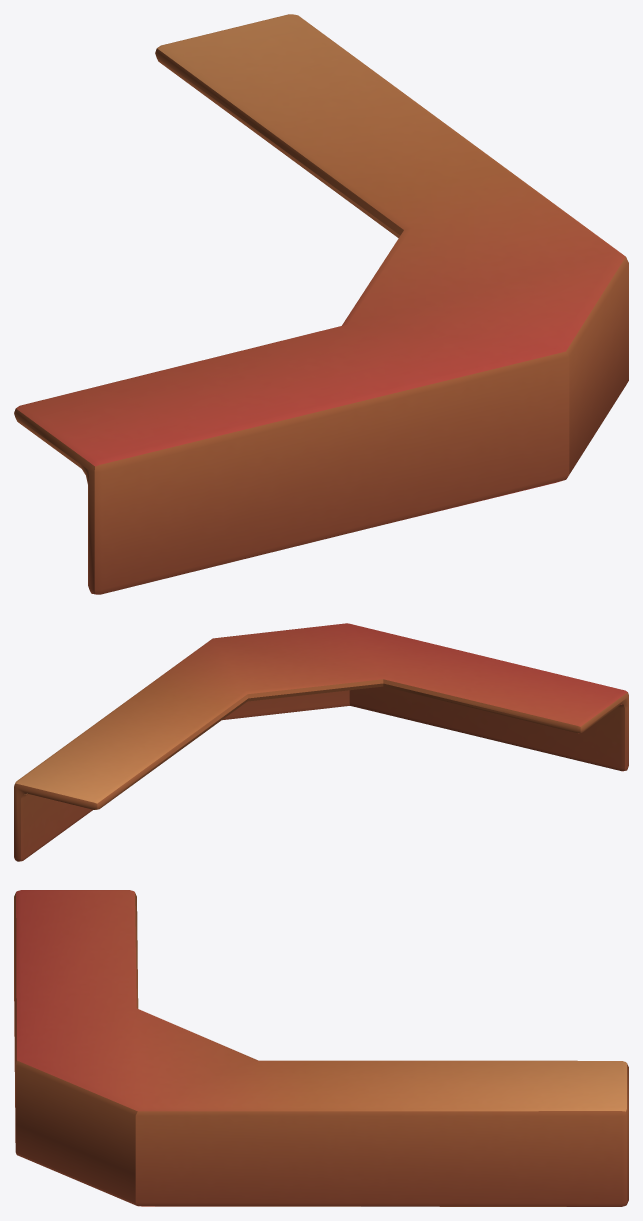
The model's file is Props_Table_04.fbx.
The picture shows the model from 3 angles, top to bottom: view 1: azimuth 30°, elevation 25°; view 2: azimuth 150°, elevation 25°; view 3: azimuth 270°, elevation 25°; orthographic projection. The views are drawn at different scales.
Visible parts, largest first — view 1: Props_Table_04; view 2: Props_Table_04; view 3: Props_Table_04.
Part boxes in pixels (x1,y1,x2,y2): Props_Table_04: [14, 14, 628, 594]; Props_Table_04: [14, 623, 628, 861]; Props_Table_04: [14, 890, 628, 1206].
Bounding box in the file's own units: 300 × 62.5 × 350.
